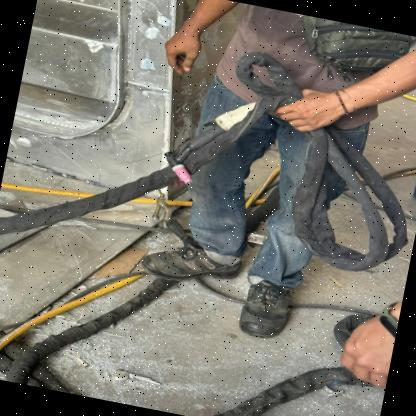bota: (138, 224, 248, 294), (234, 269, 303, 345)
